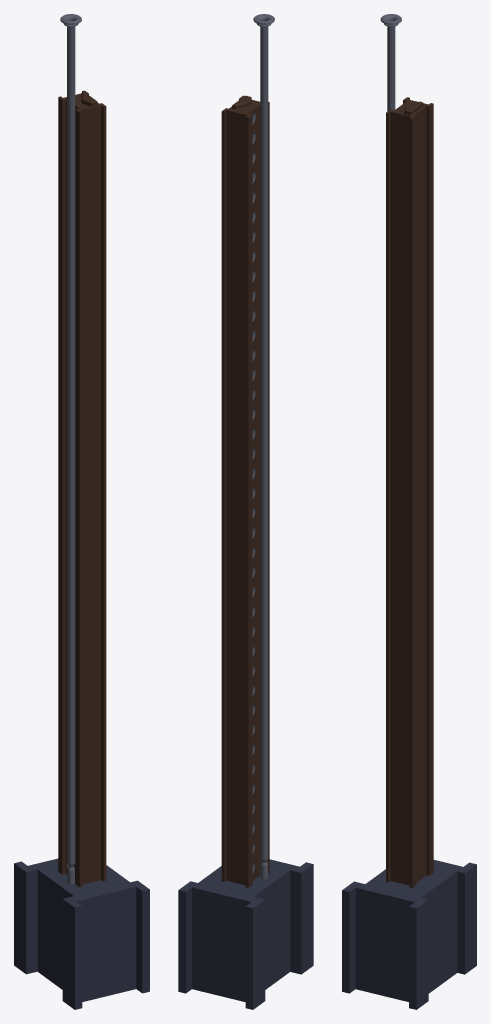
3 renders of one model, left to right at view 1: azimuth 30°, elevation 25°; view 2: azimuth 150°, elevation 25°; view 3: azimuth 330°, elevation 25°, orthographic.
Visible parts, largest first — view 1: Cube.019; view 2: Cube.019; view 3: Cube.019.
Boxes of the visible parts, left/top/right/bottom form: Cube.019: left=14, top=14, right=149, bottom=1009; Cube.019: left=178, top=14, right=313, bottom=1009; Cube.019: left=342, top=14, right=476, bottom=1009.
Size of the model in its own units: 1.8 by 22.19 by 2.53.
